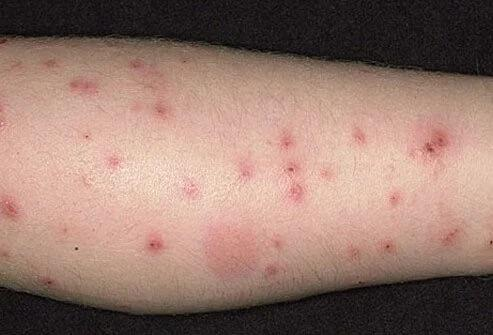Fleas: (119, 52, 183, 129), (260, 127, 319, 205), (406, 116, 466, 174), (256, 228, 299, 281), (343, 234, 404, 271), (172, 171, 220, 212), (433, 217, 471, 257), (67, 65, 102, 107), (138, 228, 174, 262), (101, 146, 128, 175), (3, 192, 22, 230), (388, 185, 407, 215)
